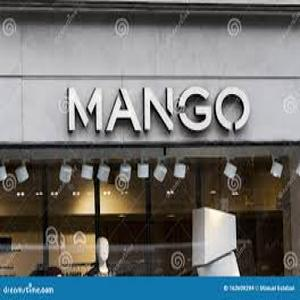mango: (55, 79, 253, 143)
